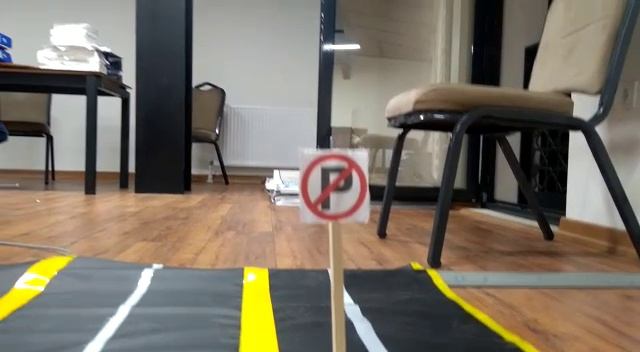park_yapilmaz: (302, 149, 371, 221)
